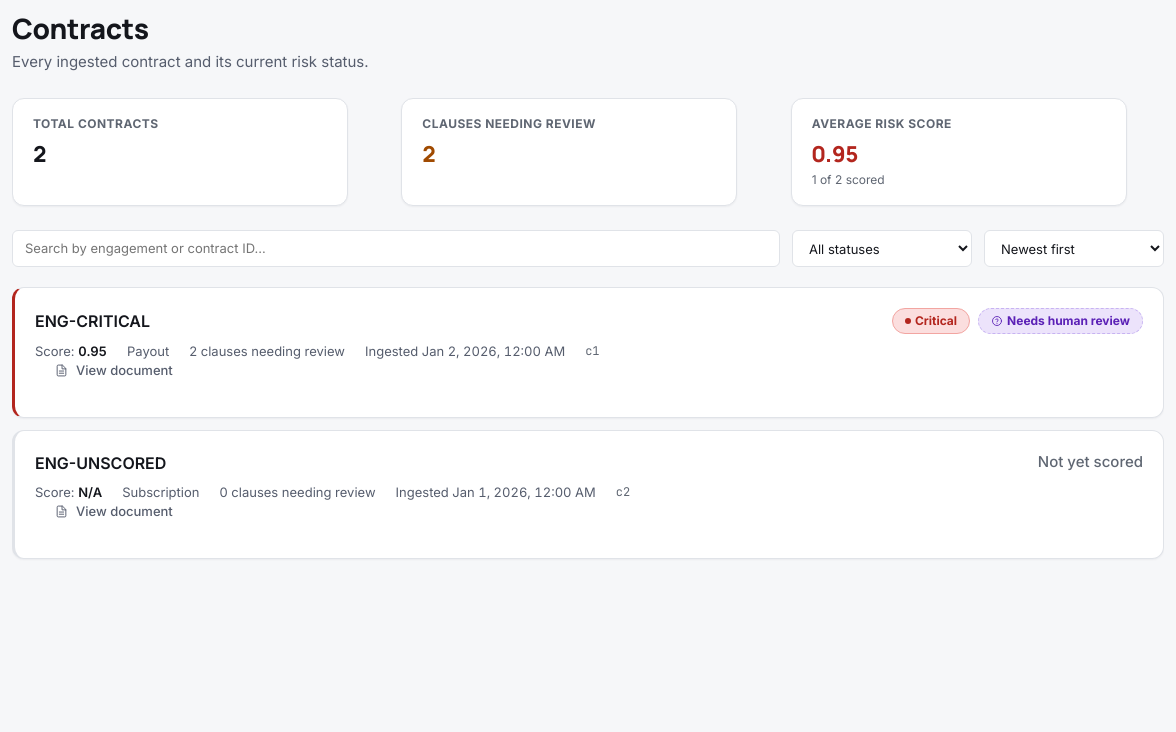
ContractListPage › filters the list by status band and offers a way to clear filters when nothing matches
Expected: the list with test id "contract-list" is shown, [12, 288, 1164, 559]
Select "Not yet scored" in the dropdown named "filter by status" at (882, 249), box [792, 230, 972, 268]
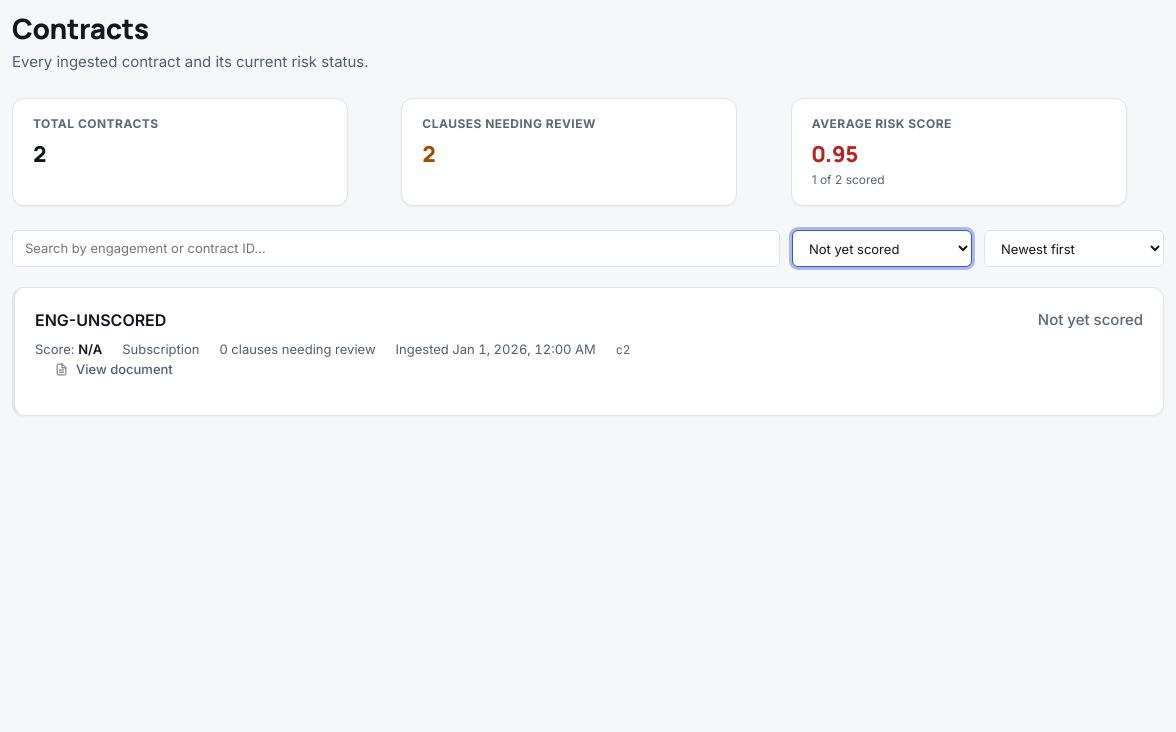
Expected: the text "ENG-UNSCORED" is shown, [35, 308, 166, 332]
Expected: the link "ENG-CRITICAL" is gone
Select "Medium" in the dropdown named "filter by status" at (882, 249), box [792, 230, 972, 268]
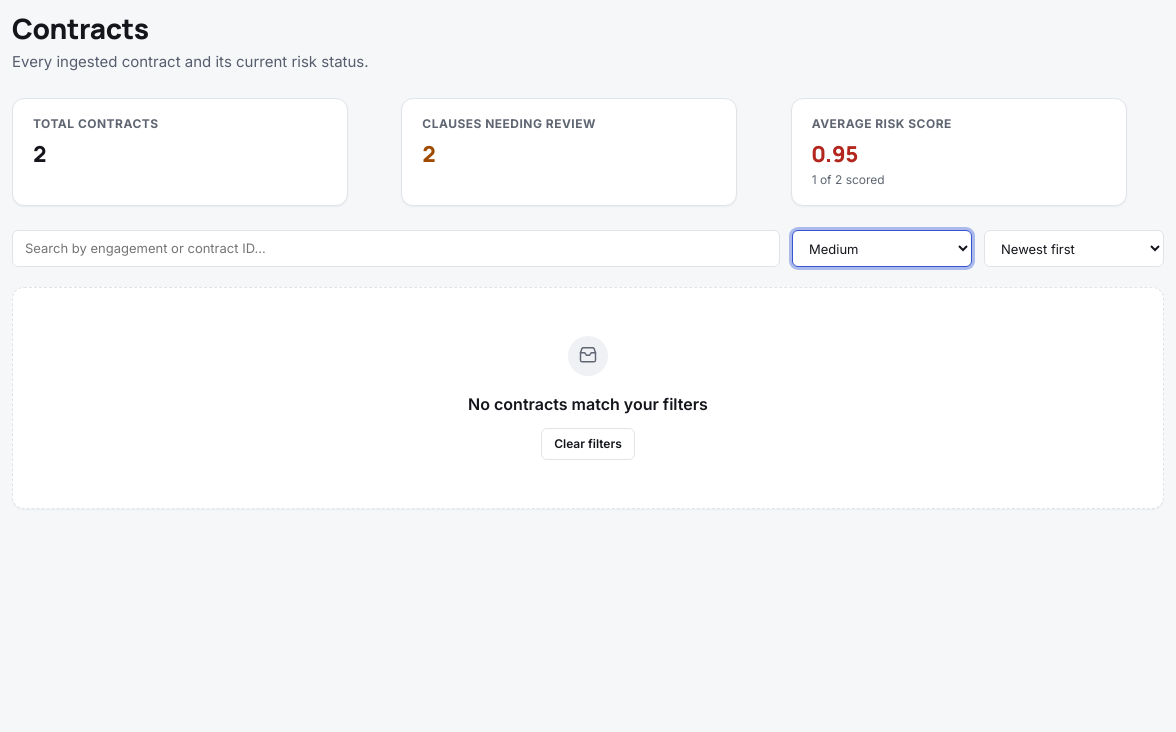
Expected: the element with test id "empty-filter-state" is shown, [12, 288, 1164, 510]
Click the button "Clear filters" at (588, 444), box [541, 428, 635, 460]
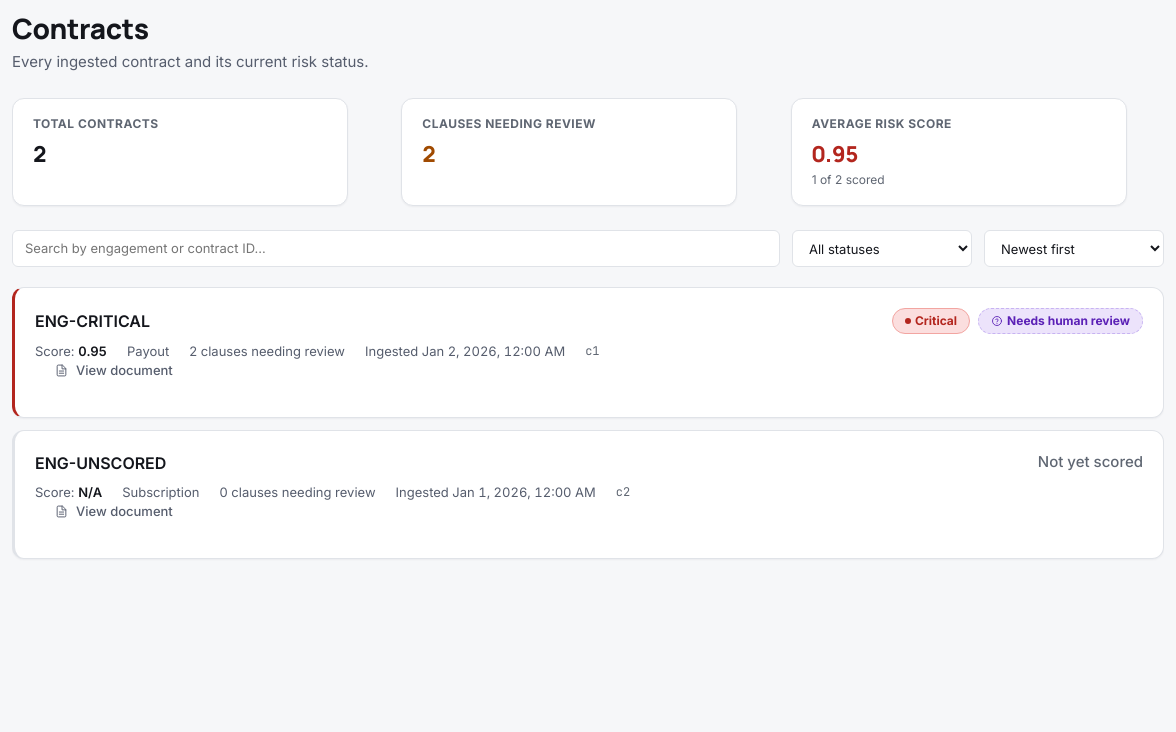
Expected: the text "ENG-CRITICAL" is shown, [35, 309, 150, 333]
Expected: the text "ENG-UNSCORED" is shown, [35, 451, 166, 475]
